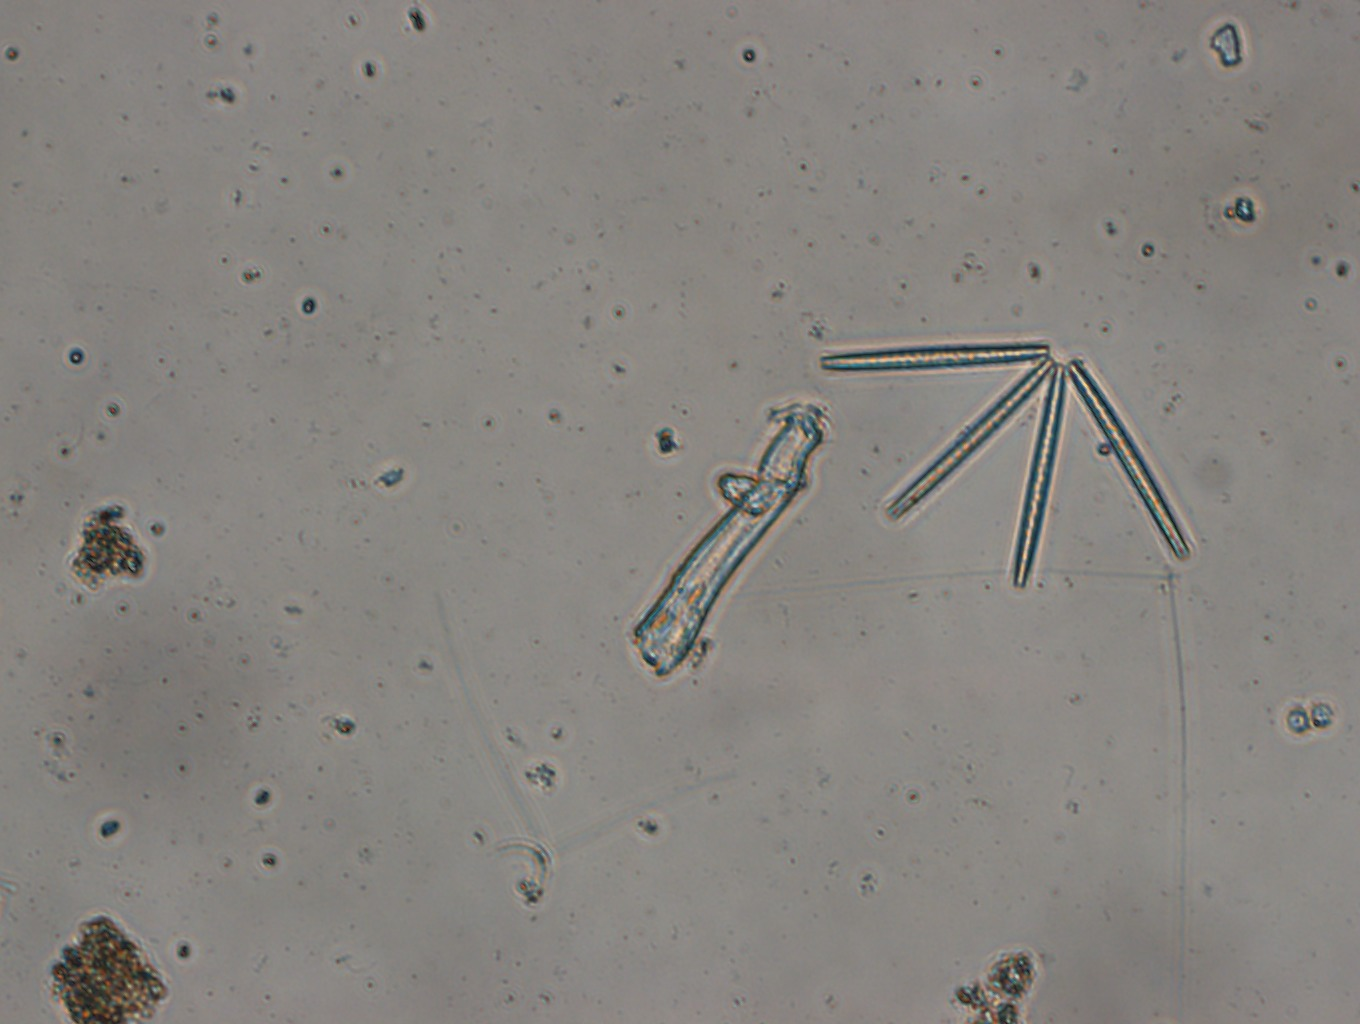thalassionema frauenfeldii: (820, 329, 1190, 596)
